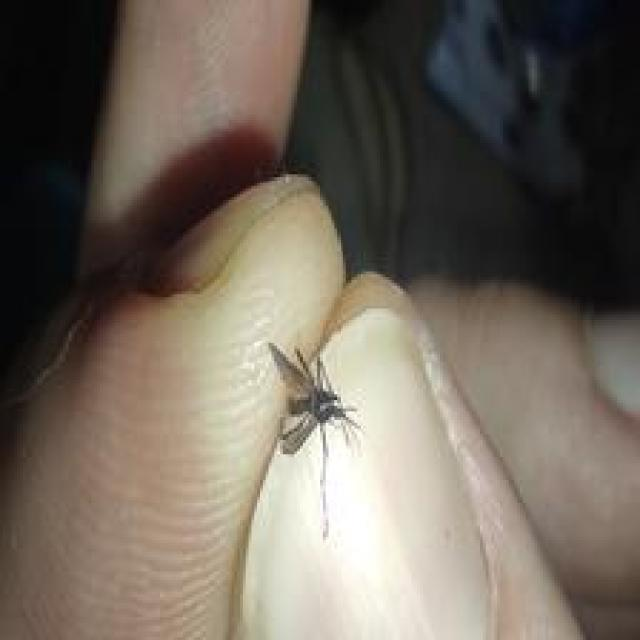Aedes albopictus: (266, 342, 363, 538)
